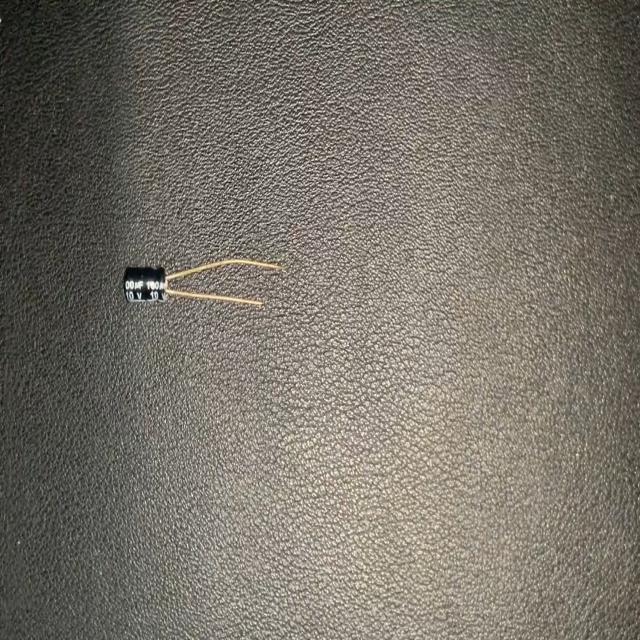capacitor: (122, 258, 282, 312)
